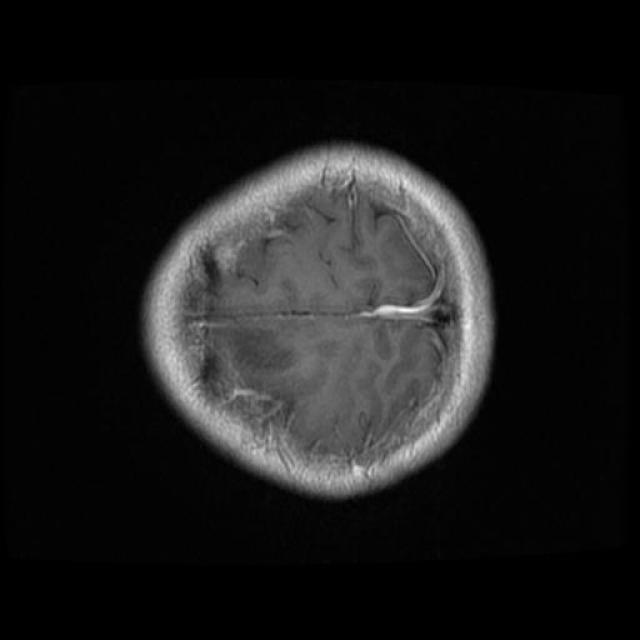Glioma: (225, 326, 294, 374)
